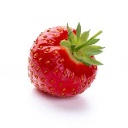strawberry: (26, 22, 102, 97)
